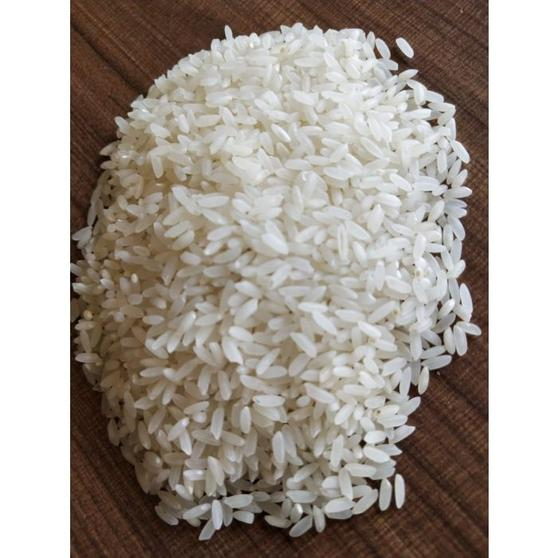rice: (80, 27, 481, 527)
